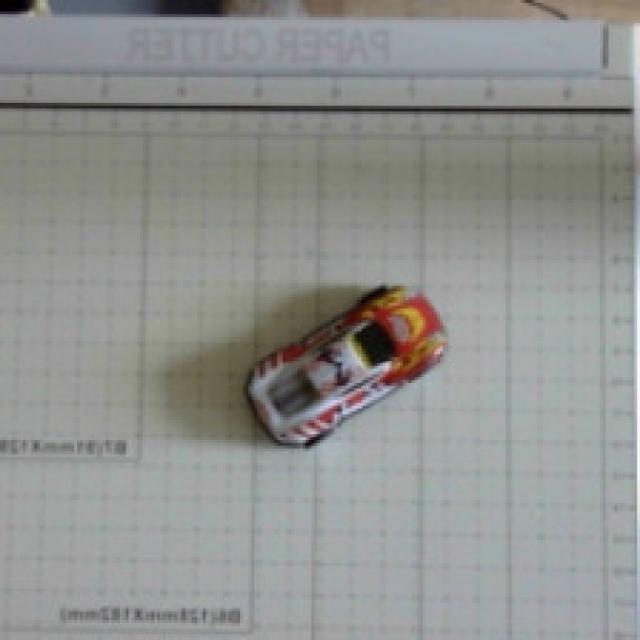Red Car: (181, 246, 515, 483)
